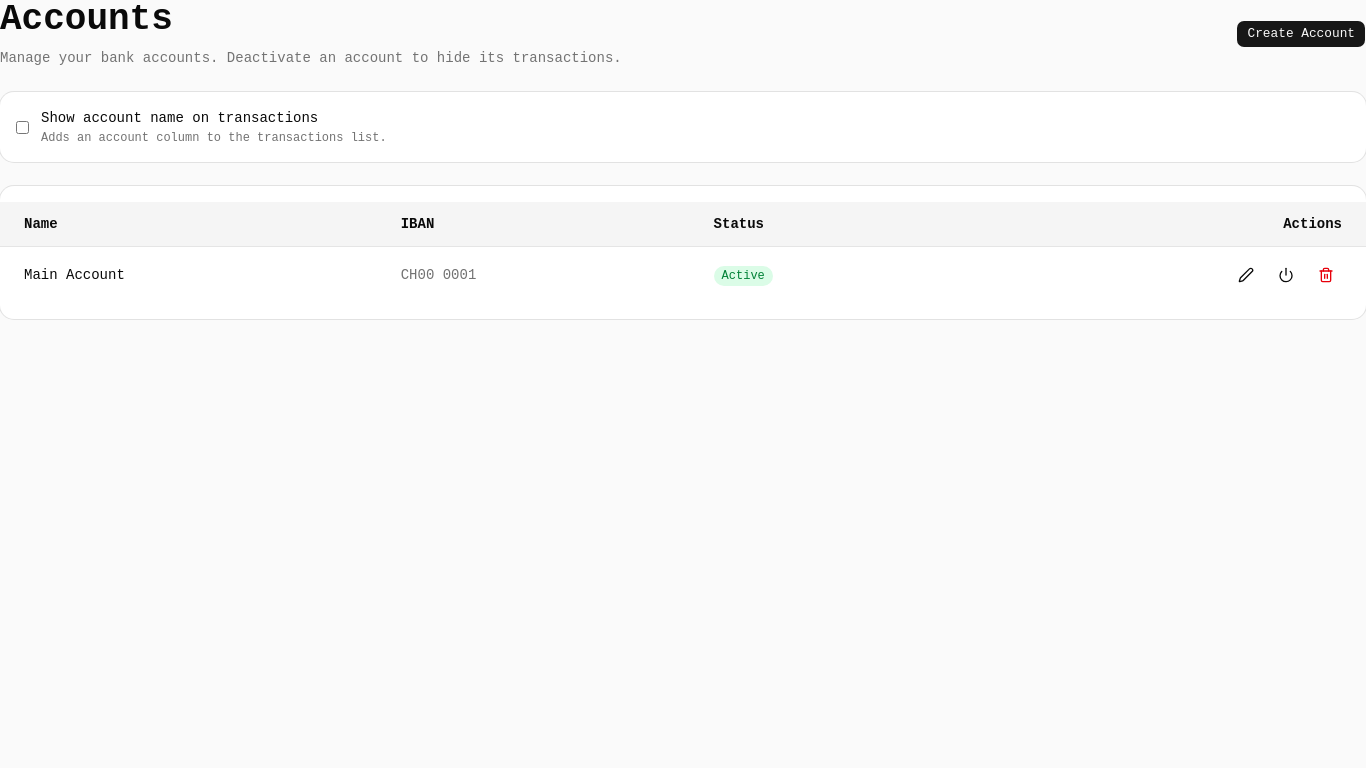
SettingsAccounts › shows the deactivate-instead message when deleting an account blocked with 409
The image size is (1366, 768).
Step 1. Click the button titled "Delete" → (1326,275), box [1310, 259, 1342, 291]
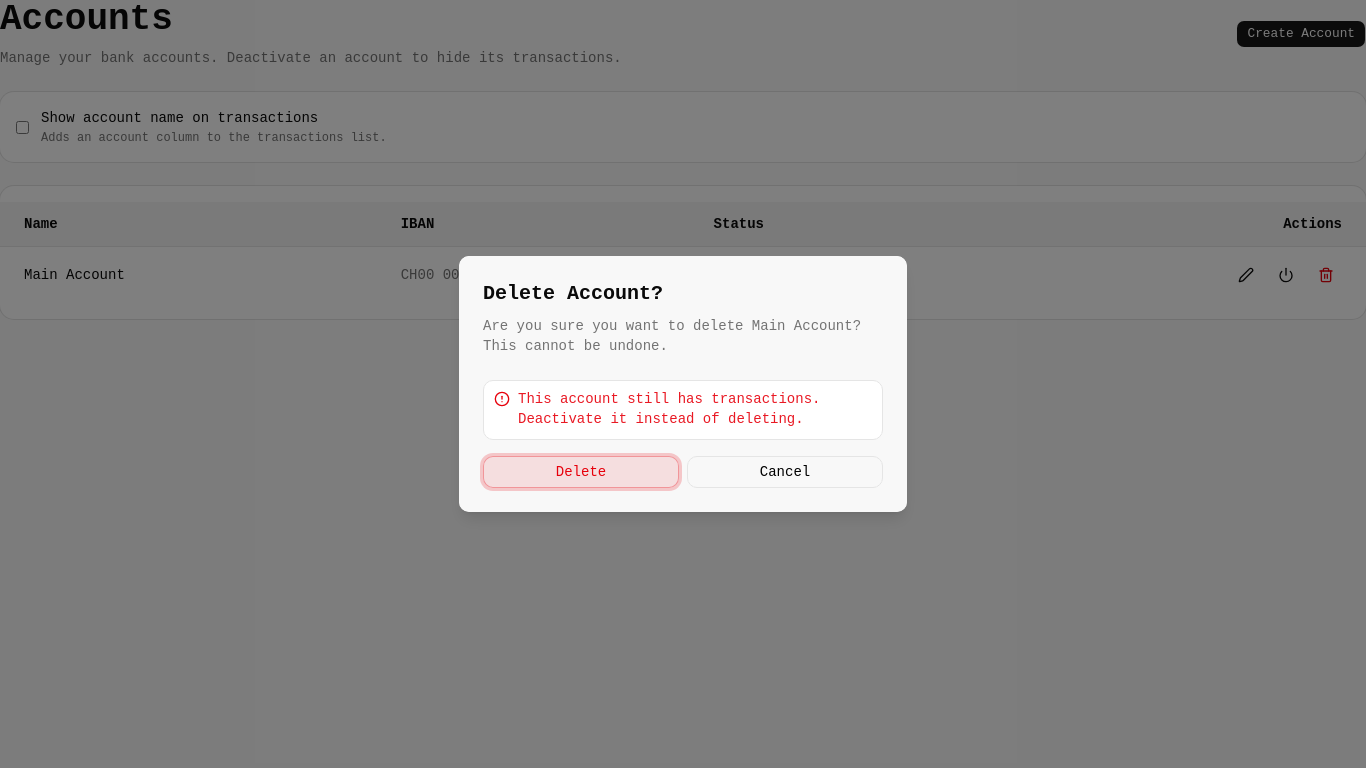
expect the text "This account still has transactions. Deactivate it instead of deleting." is shown: met, box [518, 389, 872, 429]
